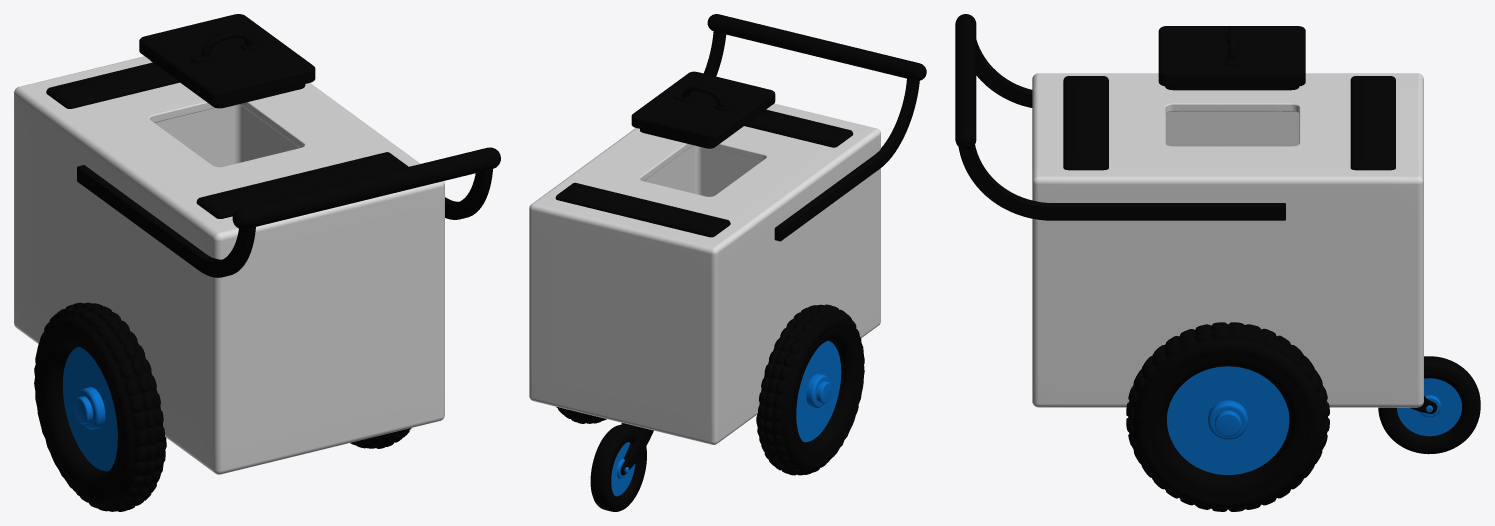
The picture shows the model from 3 angles, left to right: view 1: azimuth 30°, elevation 25°; view 2: azimuth 150°, elevation 25°; view 3: azimuth 270°, elevation 25°; orthographic projection. The views are drawn at different scales.
Visible parts, largest first — view 1: BODY, TYRE, HANDLE, COVER, COVERS, RIM; view 2: BODY, TYRE, HANDLE, COVER, COVERS, RIM, TYRE_2, RIM_2, ARM; view 3: BODY, TYRE, RIM, HANDLE, COVER, COVERS, TYRE_2, RIM_2.
Boxes of the visible parts, x1=… form: BODY: x1=14, y1=56, x2=444, y2=474; TYRE: x1=34, y1=302, x2=411, y2=511; HANDLE: x1=77, y1=147, x2=500, y2=277; COVER: x1=139, y1=14, x2=315, y2=108; COVERS: x1=46, y1=62, x2=408, y2=218; RIM: x1=62, y1=347, x2=117, y2=471; BODY: x1=529, y1=103, x2=880, y2=444; TYRE: x1=556, y1=304, x2=864, y2=475; HANDLE: x1=703, y1=14, x2=926, y2=241; COVER: x1=631, y1=71, x2=775, y2=148; COVERS: x1=555, y1=109, x2=853, y2=237; RIM: x1=796, y1=340, x2=841, y2=442; TYRE_2: x1=590, y1=424, x2=646, y2=511; RIM_2: x1=611, y1=442, x2=635, y2=496; ARM: x1=620, y1=423, x2=653, y2=475; BODY: x1=1032, y1=73, x2=1423, y2=407; TYRE: x1=1126, y1=322, x2=1329, y2=511; RIM: x1=1167, y1=366, x2=1289, y2=474; HANDLE: x1=955, y1=14, x2=1285, y2=220; COVER: x1=1158, y1=26, x2=1305, y2=90; COVERS: x1=1063, y1=76, x2=1395, y2=170; TYRE_2: x1=1378, y1=356, x2=1480, y2=454; RIM_2: x1=1397, y1=378, x2=1461, y2=436.
Size of the model in its own units: 261 by 364 by 412.
